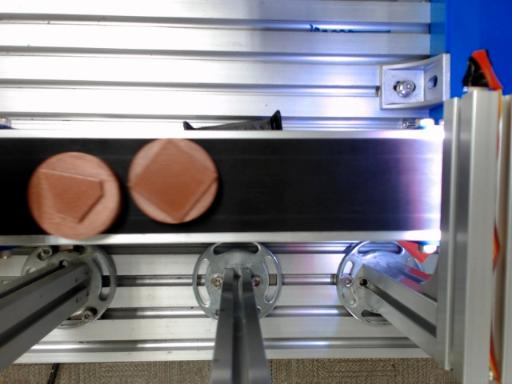Brown_Waper: (27, 152, 121, 238), (128, 139, 218, 223)
